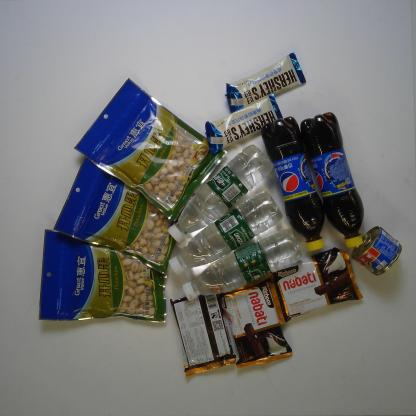Canned Food: (349, 224, 405, 278)
Chocolate: (222, 51, 310, 116), (202, 92, 287, 156)
Dessert: (267, 242, 365, 327), (214, 274, 297, 372), (167, 289, 239, 382)
Dried Fruit: (71, 75, 229, 225), (52, 154, 183, 278), (35, 226, 171, 327)
Drink: (166, 142, 276, 245), (166, 188, 285, 277), (258, 114, 328, 256), (298, 110, 367, 250), (180, 228, 306, 304)
